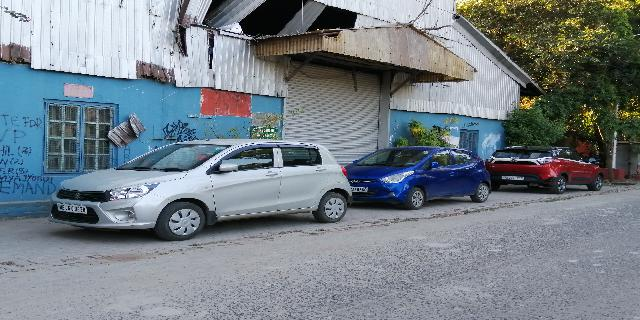Car: (48, 136, 355, 242), (343, 144, 492, 209), (486, 142, 608, 196)
